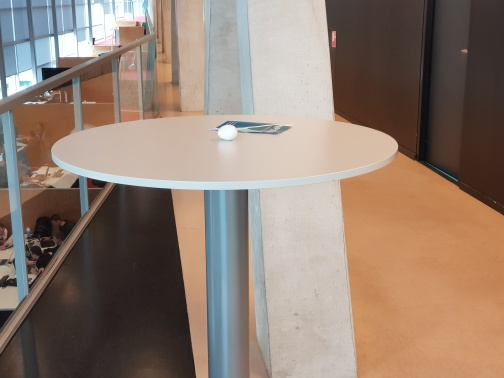egg: (216, 123, 239, 140)
